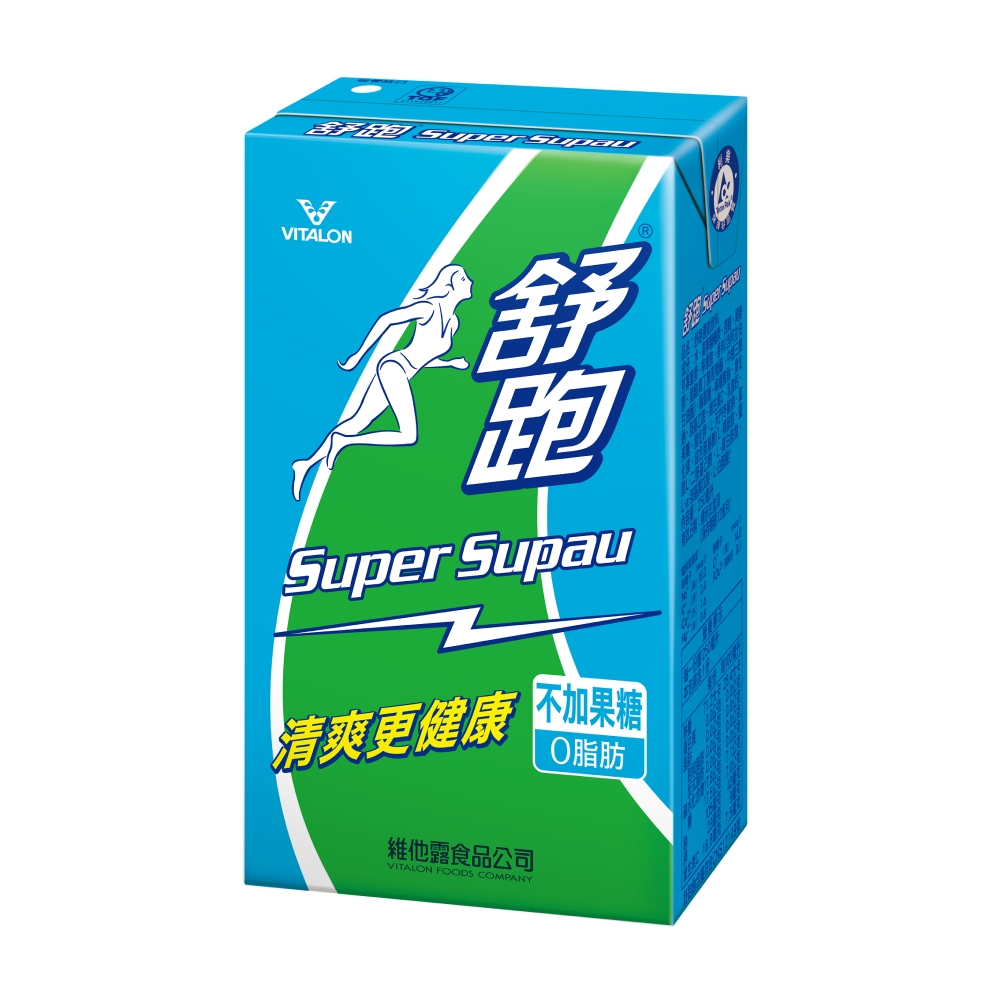鋁箔包: (228, 59, 771, 931)
